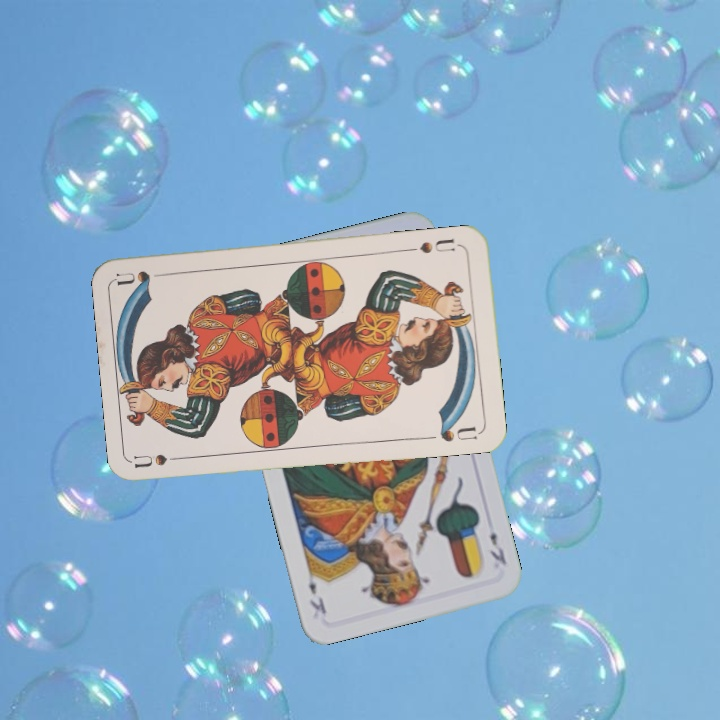EK: (486, 527, 509, 568)
SU: (132, 450, 191, 471), (404, 234, 458, 256)
